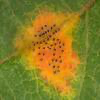Apple rust leaf: (11, 6, 85, 96)
